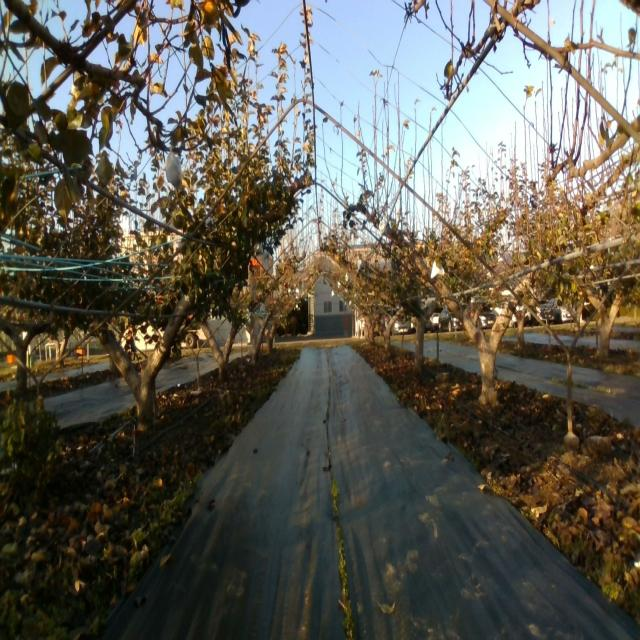pearbags: (165, 145, 183, 192), (431, 260, 445, 279)
